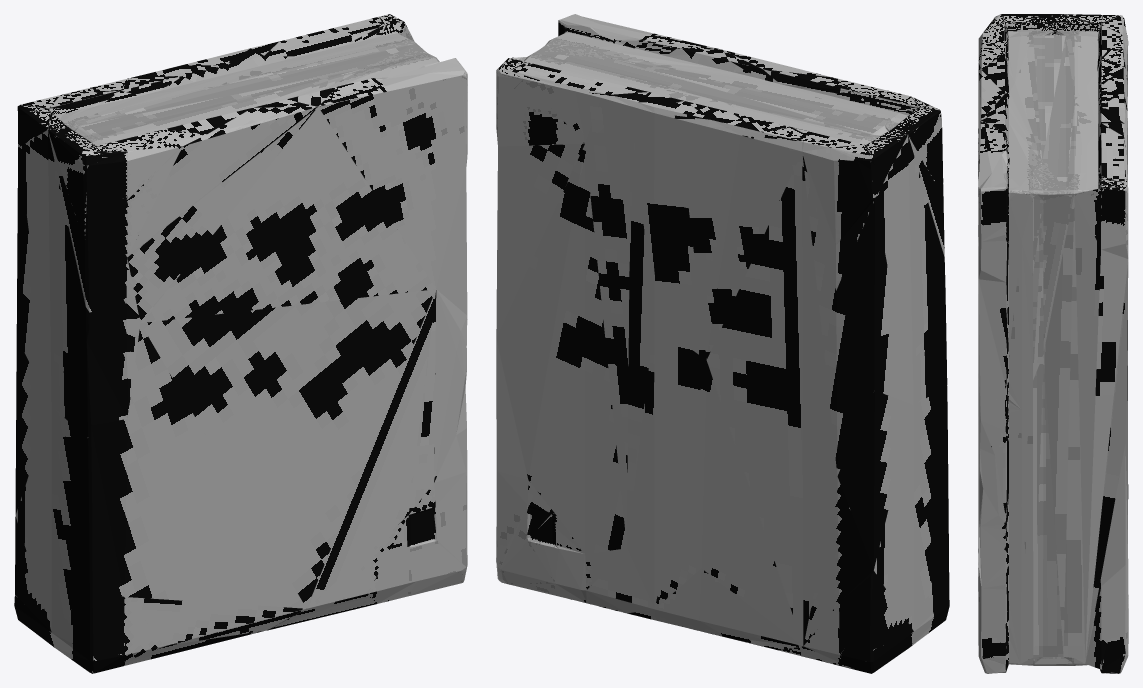
The picture shows the model from 3 angles, left to right: view 1: azimuth 30°, elevation 25°; view 2: azimuth 150°, elevation 25°; view 3: azimuth 270°, elevation 25°; orthographic projection. The views are drawn at different scales.
Parts seen in each view (by area): view 1: OBJ132; view 2: OBJ132; view 3: OBJ132.
Part boxes in pixels (box(x1,y1,x2,y2)): OBJ132: box(14, 14, 467, 673); OBJ132: box(496, 14, 949, 673); OBJ132: box(978, 14, 1128, 673).
Bounding box in the file's own units: 0.2807 × 0.3649 × 0.102.
1 material, 1 textured.
